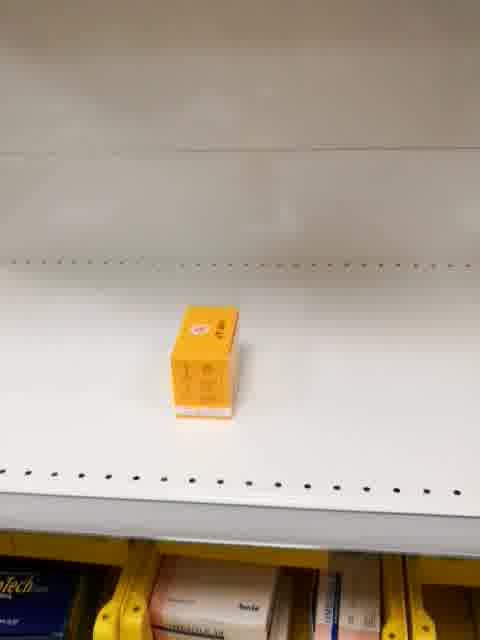jasminetea: (169, 304, 240, 422)
